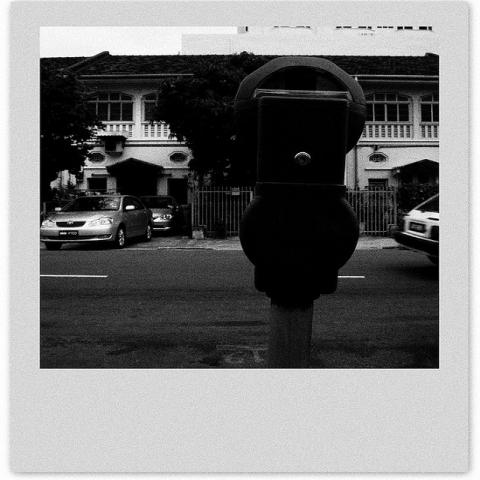car: (40, 194, 154, 250), (385, 197, 437, 262), (137, 195, 181, 234)
